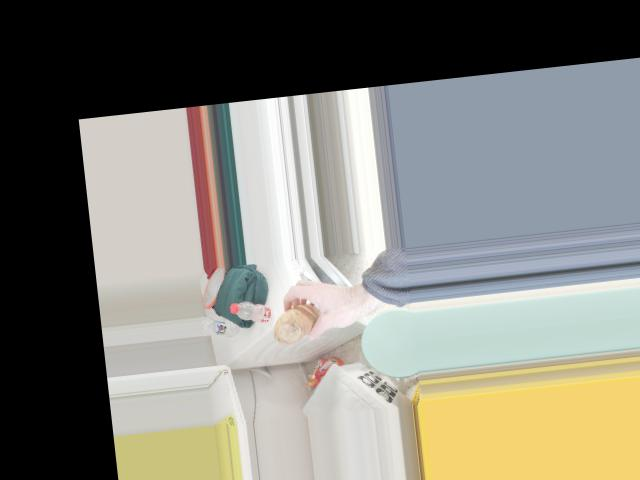sweet_potato: (270, 300, 323, 345)
